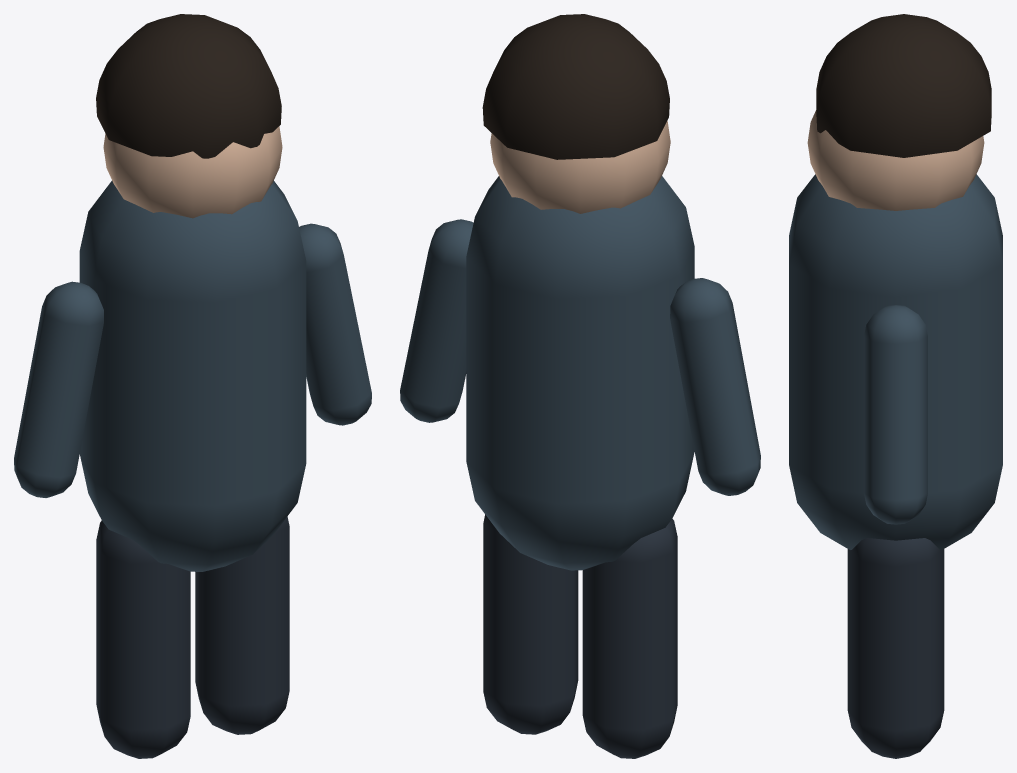
Rendered from explorer.glb.
3 renders of one model, left to right at view 1: azimuth 30°, elevation 25°; view 2: azimuth 150°, elevation 25°; view 3: azimuth 270°, elevation 25°, orthographic. The views are drawn at different scales.
Visible parts, largest first — view 1: Explorer; view 2: Explorer; view 3: Explorer.
Boxes of the visible parts, box(x1,y1,x2,y2) form: Explorer: box(14, 14, 371, 758); Explorer: box(400, 14, 760, 758); Explorer: box(789, 14, 1002, 758).
Size of the model in its own units: 0.9965 by 1.95 by 0.5326.
